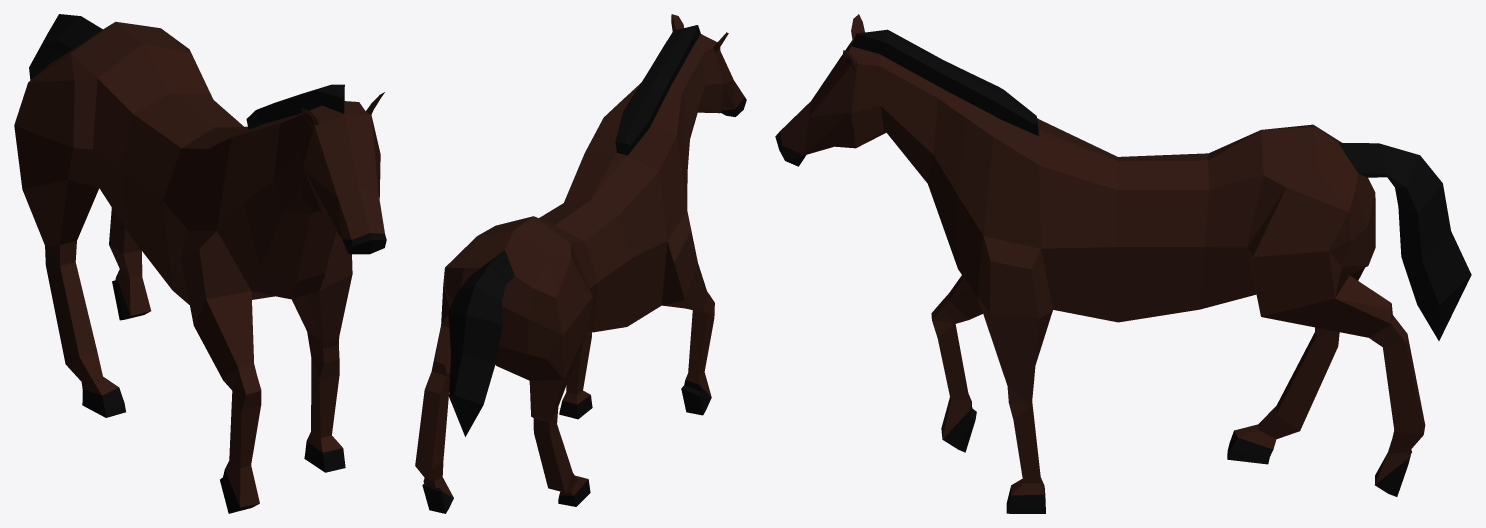
Rendered from Horse_000010.obj.
The picture shows the model from 3 angles, left to right: view 1: azimuth 30°, elevation 25°; view 2: azimuth 150°, elevation 25°; view 3: azimuth 270°, elevation 25°; orthographic projection. The views are drawn at different scales.
Visible parts, largest first — view 1: Horse_Cylinder; view 2: Horse_Cylinder; view 3: Horse_Cylinder.
Boxes of the visible parts, bbox=[...] form: Horse_Cylinder: bbox=[14, 14, 386, 513]; Horse_Cylinder: bbox=[415, 14, 746, 513]; Horse_Cylinder: bbox=[775, 14, 1471, 513].
Bounding box in the file's own units: 2.57 × 6.73 × 9.5.
